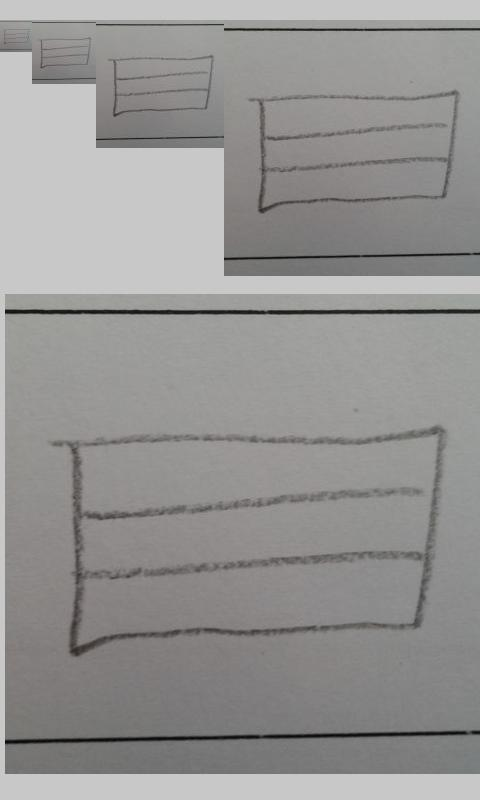list_view: (67, 425, 448, 652), (257, 89, 460, 213), (112, 55, 214, 117), (40, 36, 92, 69), (3, 28, 30, 45)
